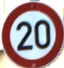20 km speed: (1, 1, 63, 68)
